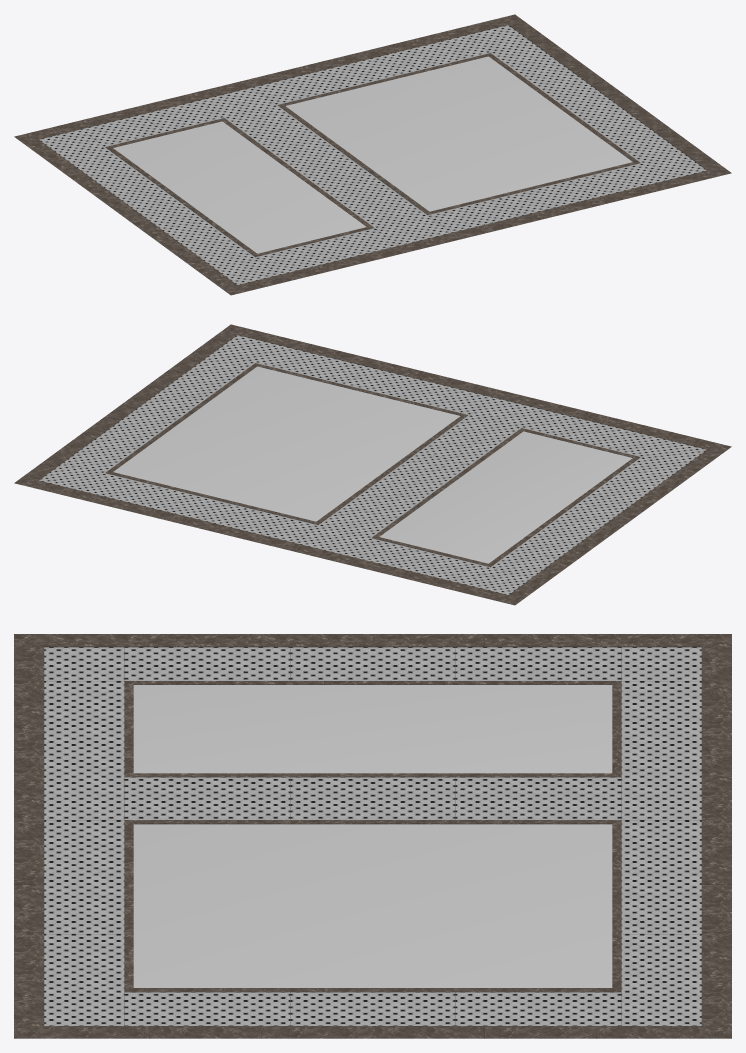
3 views of the same model, one above another, from view 1: azimuth 30°, elevation 25°; view 2: azimuth 150°, elevation 25°; view 3: azimuth 270°, elevation 25° (orthographic). The views are drawn at different scales.
Visible parts, largest first — view 1: M_F_201_a_32x24; view 2: M_F_201_a_32x24; view 3: M_F_201_a_32x24.
Part boxes in pixels (box(x1,y1,x2,y2)): M_F_201_a_32x24: box(14, 14, 731, 295); M_F_201_a_32x24: box(14, 324, 731, 605); M_F_201_a_32x24: box(14, 634, 731, 1038).
Bounding box in the file's own units: 32 × 0.04 × 24.
